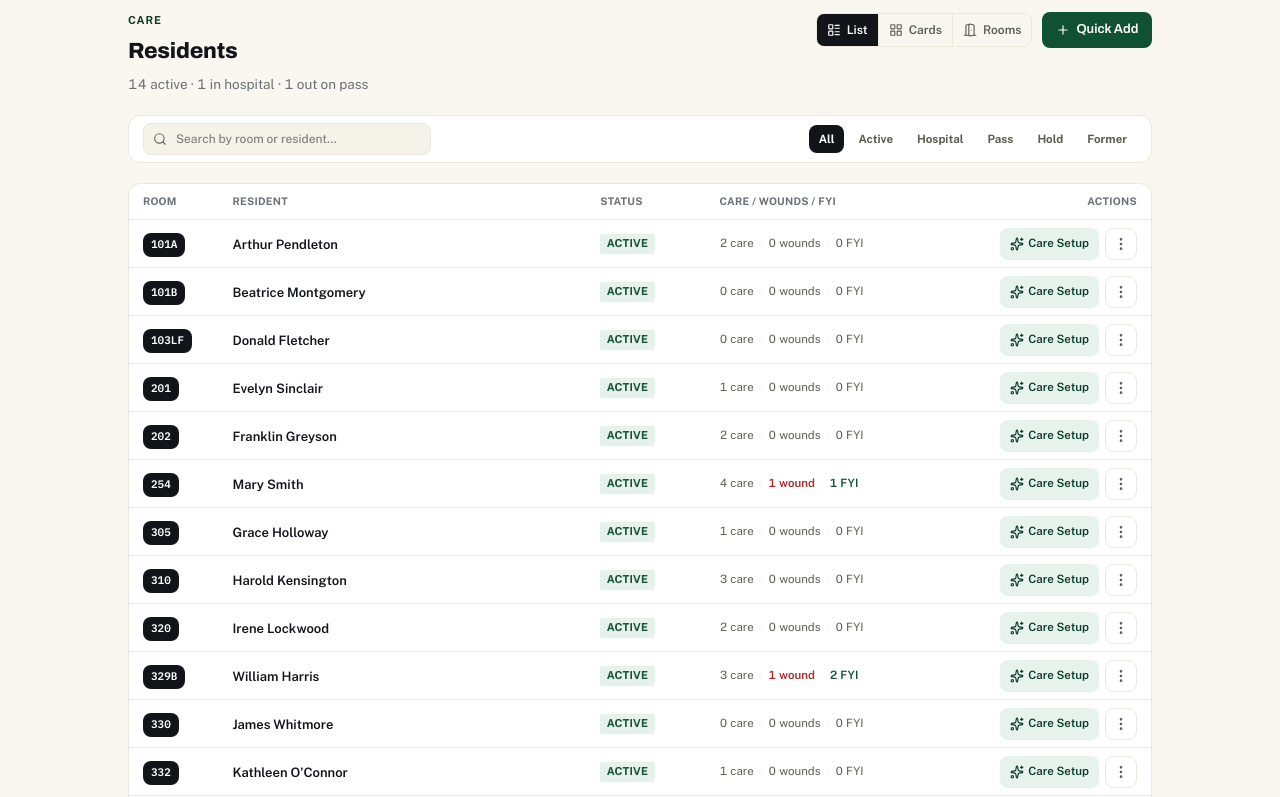
Test case: Residents list action menu › renders the three-dot popup in a viewport portal outside the clipped list card
This screenshot has width=1280, height=797.
Click the button named "Actions for " at x=1121, y=244, box [1105, 228, 1137, 260]
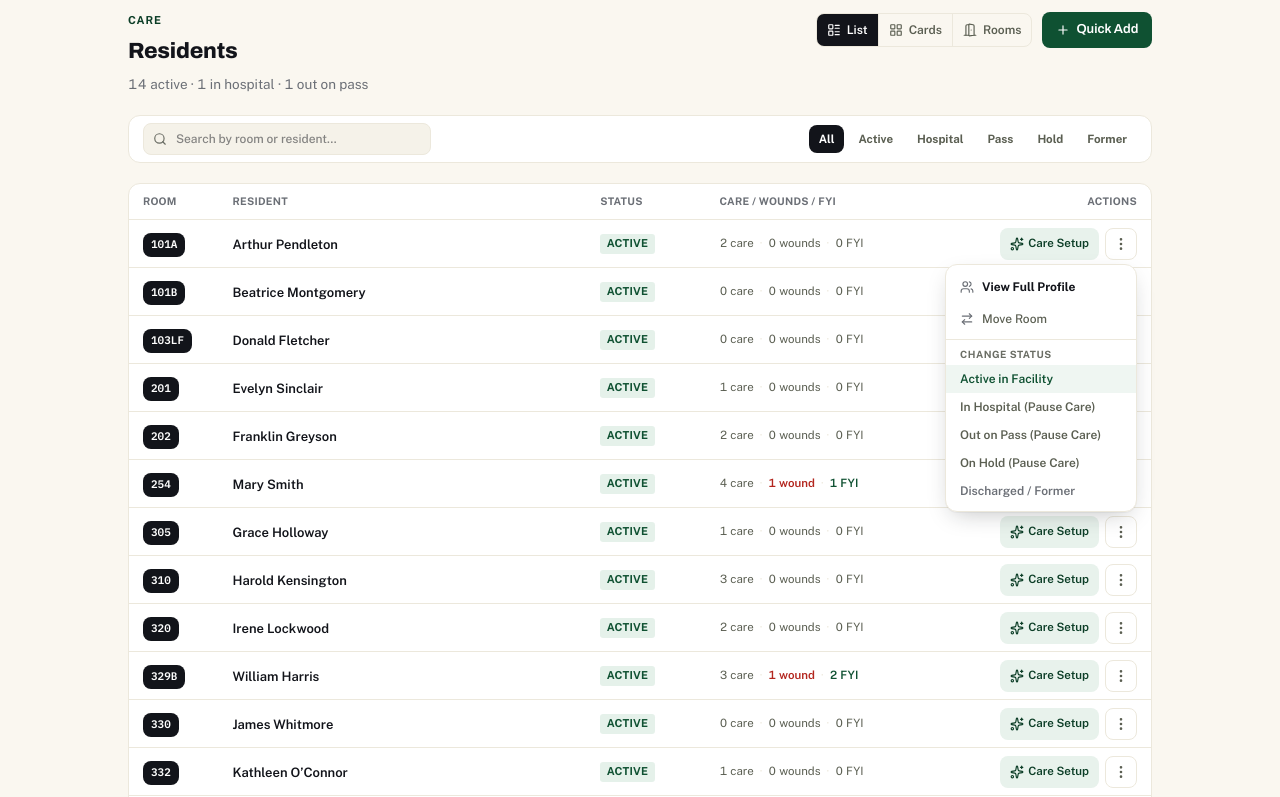
Press Escape
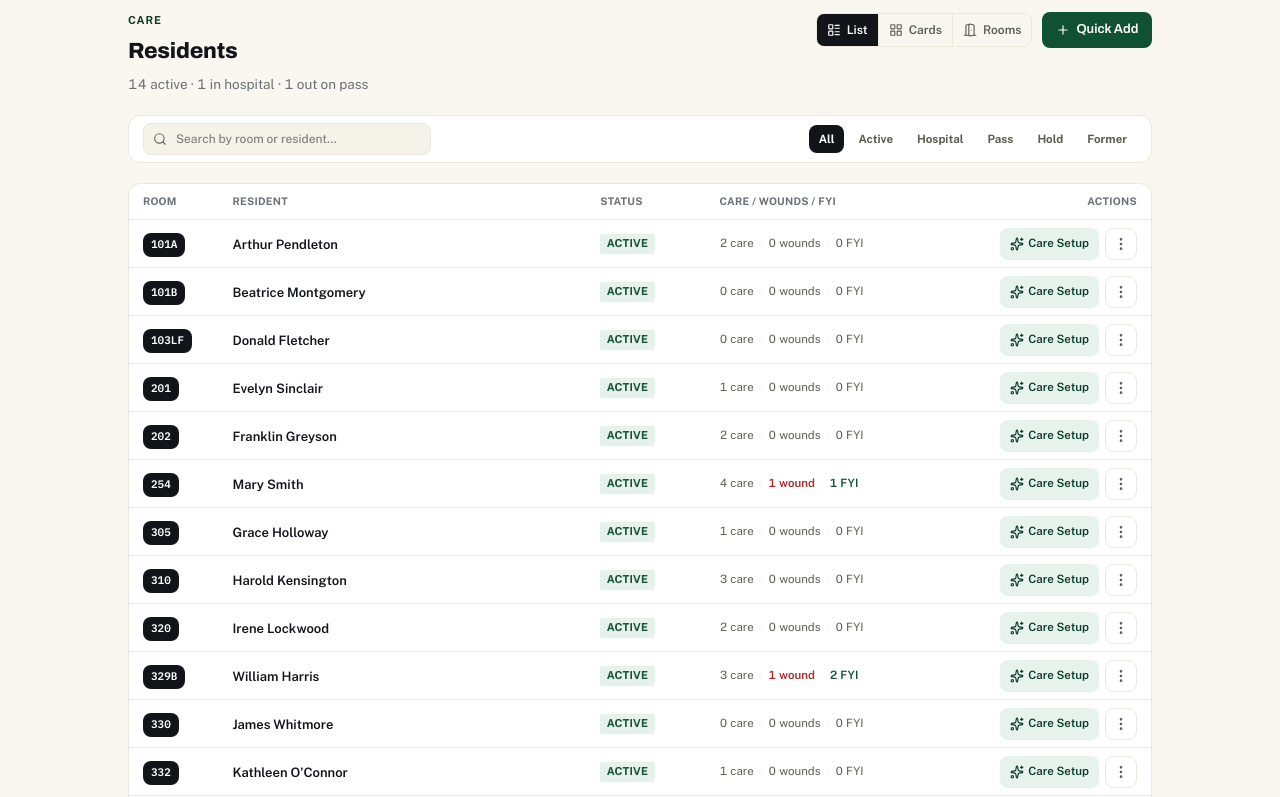
Expected: the menu is gone
